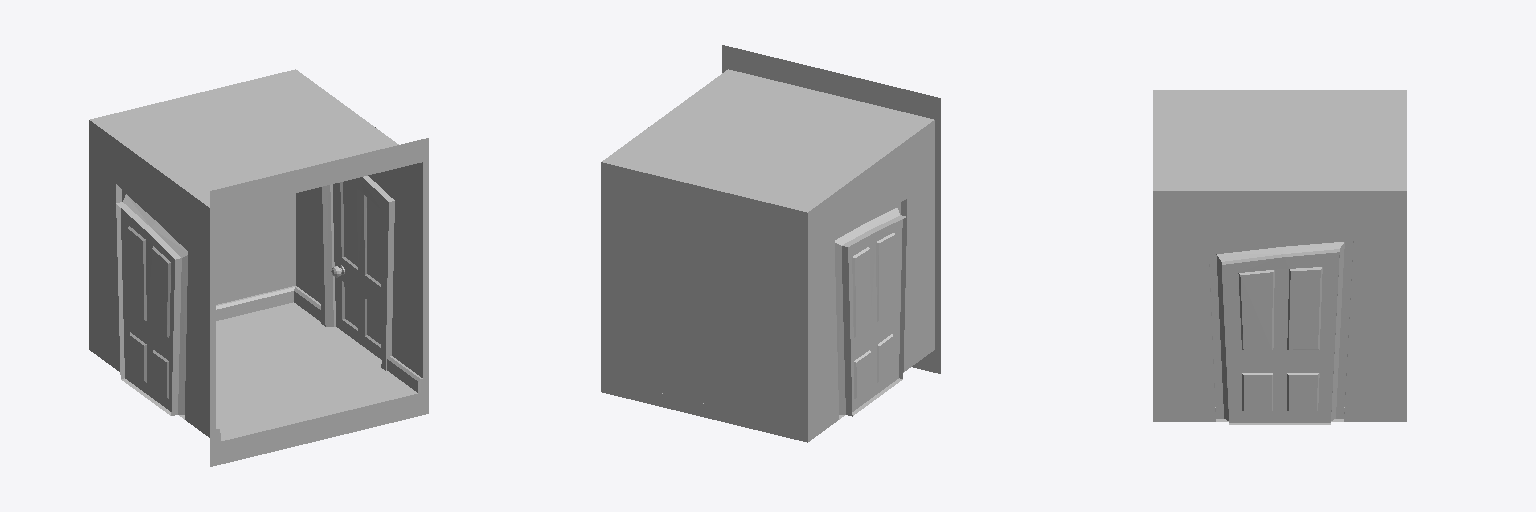
The model's file is room_1x1.obj.
3 renders of one model, left to right at view 1: azimuth 30°, elevation 25°; view 2: azimuth 150°, elevation 25°; view 3: azimuth 270°, elevation 25°, orthographic.
Visible parts, largest first — view 1: Cube.016_Cube.026, Cube.017_Cube.820, door_wall.013_Plane.326, Cube.019_Cube.822, door_wall.009_Plane.321, door_wall.010_Plane.323, door_wall.012_Plane.325, Cube.018_Cube.821, door_wall.008_Plane.060, door_wall.011_Plane.061; view 2: Cube.018_Cube.821, Cube.016_Cube.026, door_wall.013_Plane.326, door_wall.009_Plane.321, Cube.019_Cube.822; view 3: door_wall.012_Plane.325, Cube.016_Cube.026, door_wall.010_Plane.323.
Boxes of the visible parts, x1,y1,x2,y2 form: Cube.016_Cube.026: [90, 69, 398, 207]; Cube.017_Cube.820: [179, 302, 417, 440]; door_wall.013_Plane.326: [89, 120, 209, 437]; Cube.019_Cube.822: [210, 138, 428, 466]; door_wall.009_Plane.321: [116, 184, 187, 415]; door_wall.010_Plane.323: [318, 176, 394, 370]; door_wall.012_Plane.325: [296, 127, 422, 377]; Cube.018_Cube.821: [216, 193, 295, 304]; door_wall.008_Plane.060: [216, 286, 294, 320]; door_wall.011_Plane.061: [294, 286, 422, 392]; Cube.018_Cube.821: [601, 162, 807, 442]; Cube.016_Cube.026: [602, 69, 933, 212]; door_wall.013_Plane.326: [808, 120, 934, 441]; door_wall.009_Plane.321: [834, 199, 906, 416]; Cube.019_Cube.822: [722, 45, 940, 373]; door_wall.012_Plane.325: [1153, 191, 1406, 421]; Cube.016_Cube.026: [1153, 90, 1406, 190]; door_wall.010_Plane.323: [1209, 236, 1353, 424].
Size of the model in its own units: 10 by 12 by 10.